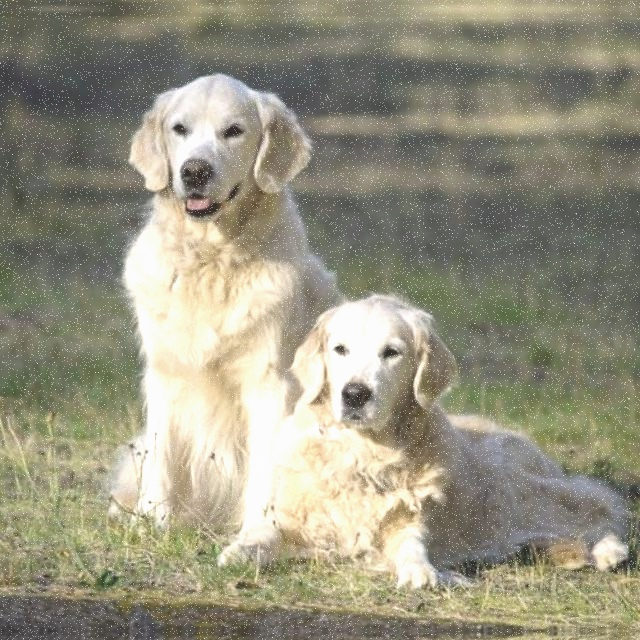dog: (82, 58, 324, 630), (287, 300, 595, 610), (82, 630, 324, 640)
